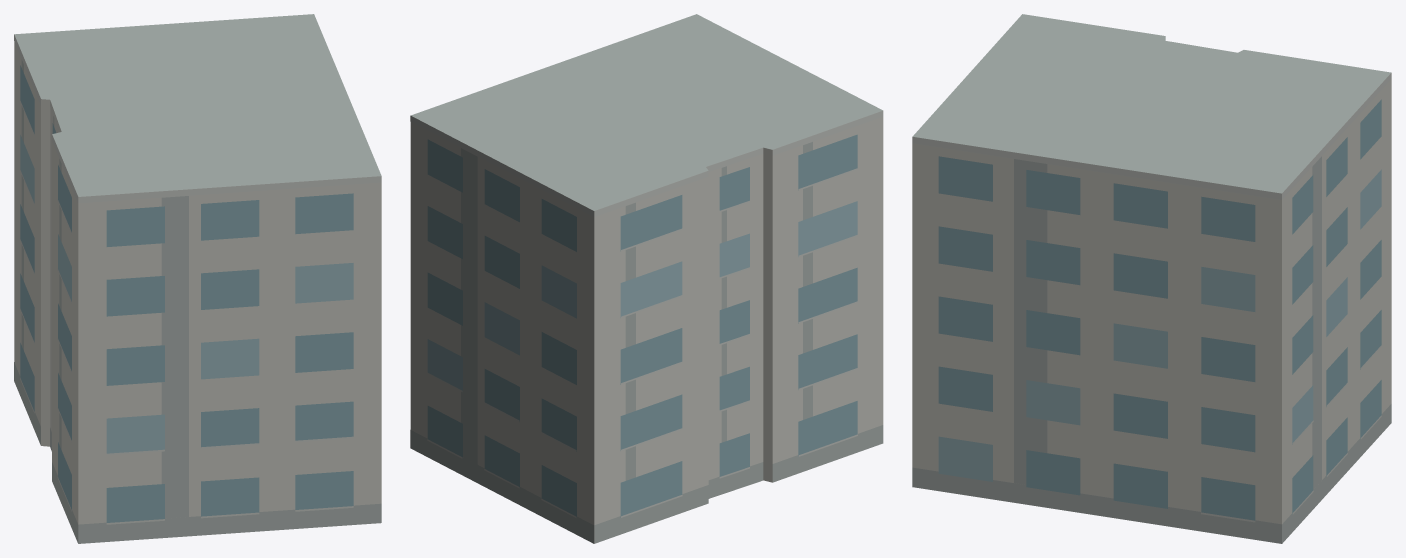
File: survey-upis-33038518.glb
3 views of the same model, side by side, from view 1: azimuth 30°, elevation 25°; view 2: azimuth 150°, elevation 25°; view 3: azimuth 270°, elevation 25° (orthographic). The views are drawn at different scales.
Parts seen in each view (by area): view 1: survey-upis-33038518.tmp; view 2: survey-upis-33038518.tmp; view 3: survey-upis-33038518.tmp.
Part boxes in pixels (bbox=[...]): survey-upis-33038518.tmp: bbox=[14, 14, 381, 543]; survey-upis-33038518.tmp: bbox=[410, 14, 883, 543]; survey-upis-33038518.tmp: bbox=[912, 14, 1391, 543].
Size of the model in its own units: 14.3 by 13 by 16.13.
